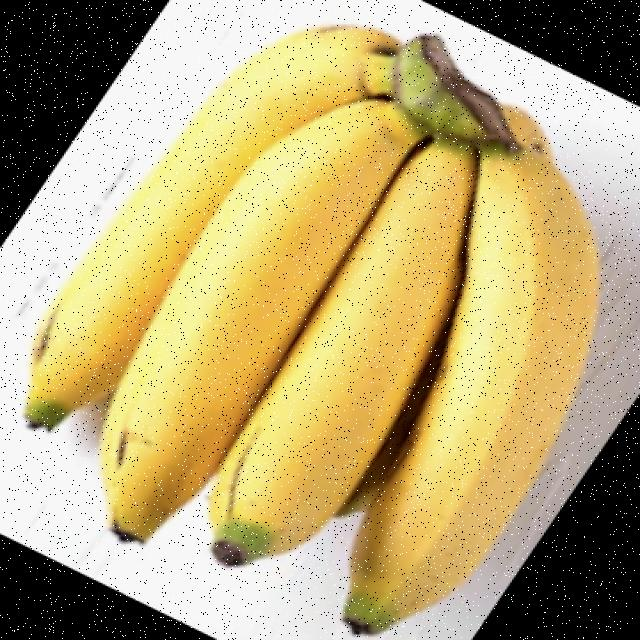god quality banana: (25, 26, 599, 635)
